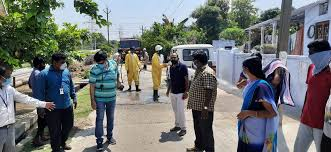mask: (304, 41, 331, 70), (51, 53, 70, 73), (1, 61, 16, 86), (189, 53, 207, 73), (94, 51, 108, 73), (239, 61, 249, 82), (170, 49, 179, 64), (154, 42, 162, 54), (128, 44, 136, 56)
